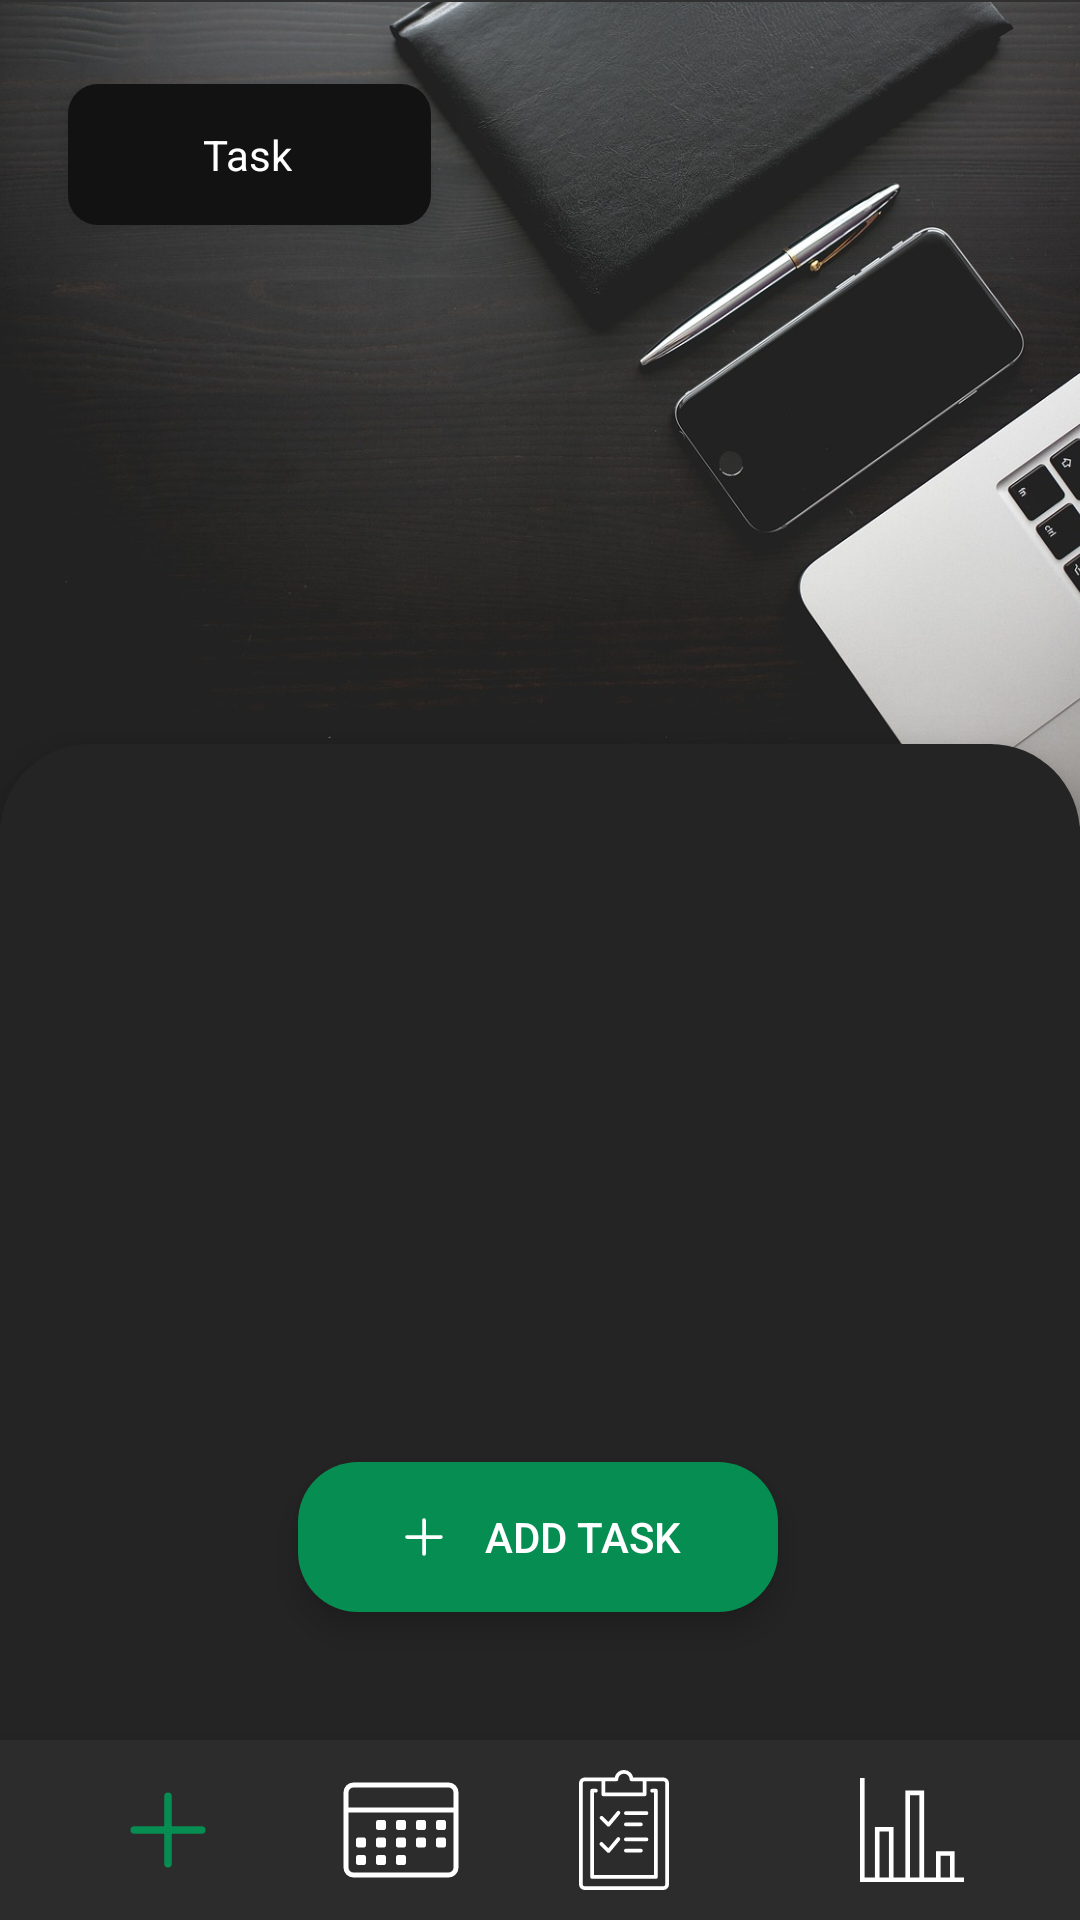

Where icons sit on this 1080 × 1920 app screen, as (x1, y1, x2, y2):
addactive: (130, 1792, 206, 1868)
plusicon: (405, 1518, 443, 1556)
schedule: (343, 1782, 459, 1878)
